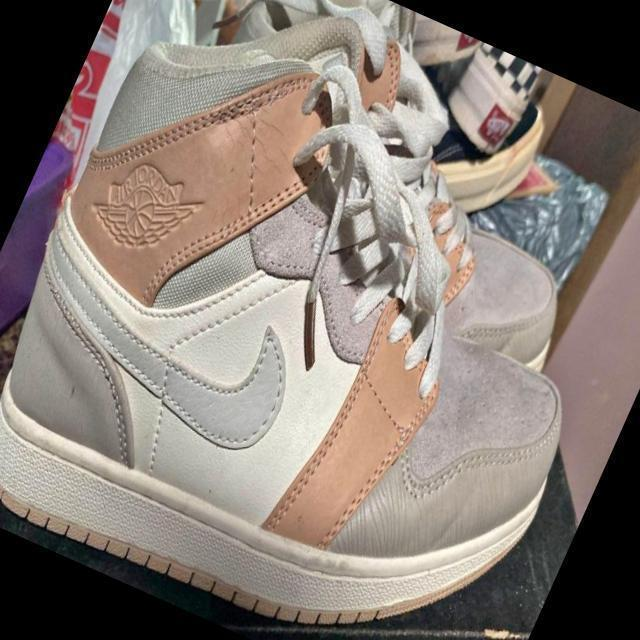nike fake jordan 1: (0, 0, 640, 640), (143, 0, 640, 388)
